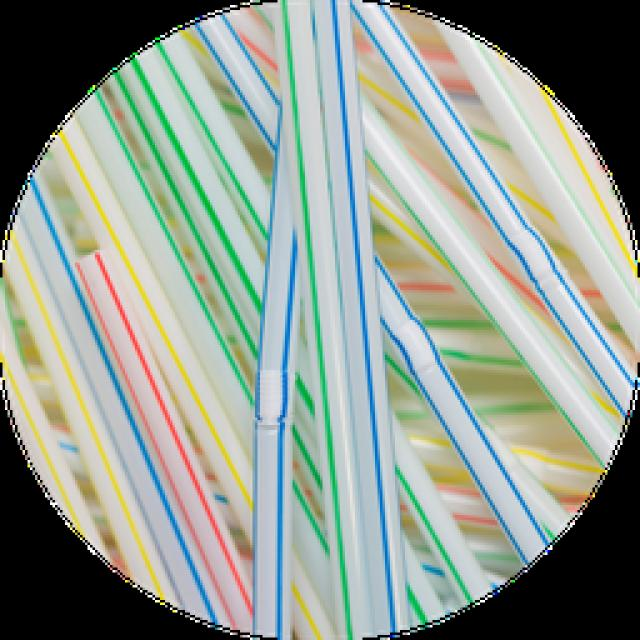plastic: (0, 0, 638, 638), (248, 0, 408, 638), (248, 0, 300, 638)
